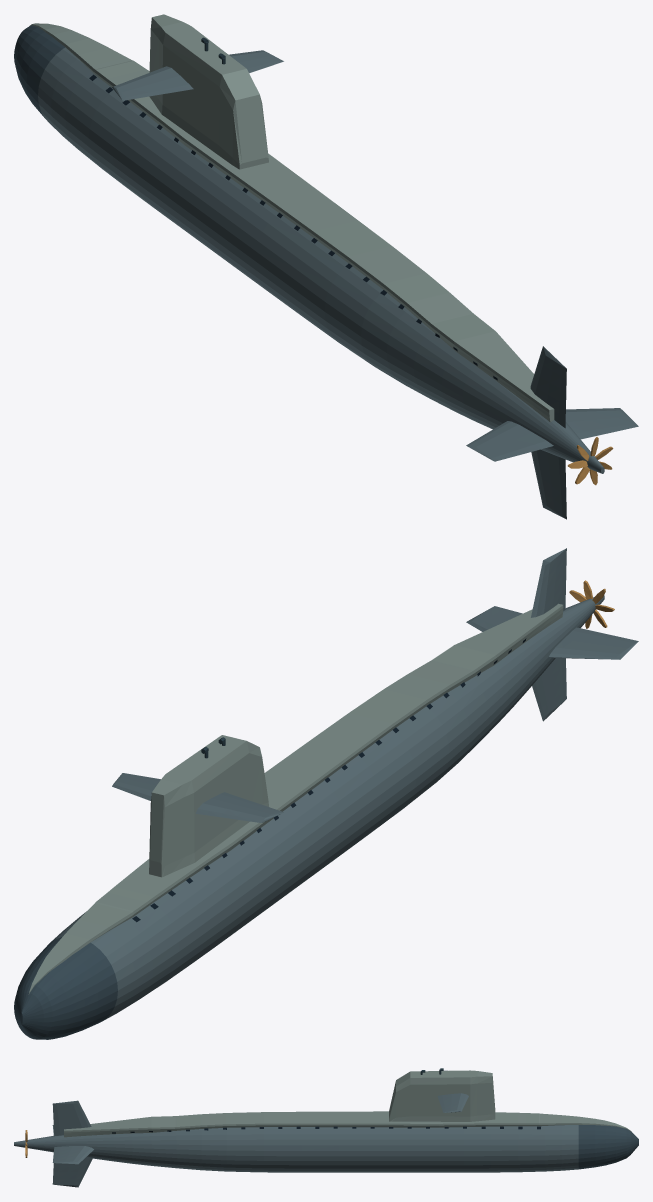
File: archive-type-091-late.glb
3 renders of one model, top to bottom at view 1: azimuth 30°, elevation 25°; view 2: azimuth 150°, elevation 25°; view 3: azimuth 270°, elevation 25°, orthographic. The views are drawn at different scales.
Parts seen in each view (by area): view 1: archive-type-091-late-pressure_hull.002-geometry, archive-type-091-late-cruise_deck.002-geometry, archive-type-091-late-submarine_sail.002-geometry, archive-type-091-late-stern_rudder_2.002-geometry, archive-type-091-late-stern_rudder_3.002-geometry, archive-type-091-late-stern_rudder_1.002-geometry, archive-type-091-late-stern_rudder_0.002-geometry, archive-type-091-late-diving_plane_-1.002-geometry, archive-type-091-late-screw_0.002-geometry, archive-type-091-late-diving_plane_1.002-geometry; view 2: archive-type-091-late-pressure_hull.002-geometry, archive-type-091-late-cruise_deck.002-geometry, archive-type-091-late-submarine_sail.002-geometry, archive-type-091-late-stern_rudder_2.002-geometry, archive-type-091-late-stern_rudder_3.002-geometry, archive-type-091-late-diving_plane_-1.002-geometry, archive-type-091-late-stern_rudder_1.002-geometry, archive-type-091-late-diving_plane_1.002-geometry, archive-type-091-late-stern_rudder_0.002-geometry; view 3: archive-type-091-late-pressure_hull.002-geometry, archive-type-091-late-cruise_deck.002-geometry, archive-type-091-late-submarine_sail.002-geometry, archive-type-091-late-stern_rudder_3.002-geometry, archive-type-091-late-stern_rudder_1.002-geometry, archive-type-091-late-stern_rudder_0.002-geometry, archive-type-091-late-diving_plane_1.002-geometry, archive-type-091-late-flood_openings.002-geometry.
Boxes of the visible parts, x1=… form: archive-type-091-late-pressure_hull.002-geometry: x1=14, y1=25, x2=604, y2=473; archive-type-091-late-cruise_deck.002-geometry: x1=30, y1=23, x2=554, y2=422; archive-type-091-late-submarine_sail.002-geometry: x1=149, y1=14, x2=268, y2=169; archive-type-091-late-stern_rudder_2.002-geometry: x1=466, y1=421, x2=553, y2=461; archive-type-091-late-stern_rudder_3.002-geometry: x1=530, y1=346, x2=566, y2=428; archive-type-091-late-stern_rudder_1.002-geometry: x1=531, y1=449, x2=566, y2=519; archive-type-091-late-stern_rudder_0.002-geometry: x1=565, y1=408, x2=638, y2=439; archive-type-091-late-diving_plane_-1.002-geometry: x1=112, y1=66, x2=193, y2=100; archive-type-091-late-screw_0.002-geometry: x1=567, y1=437, x2=613, y2=485; archive-type-091-late-diving_plane_1.002-geometry: x1=229, y1=50, x2=283, y2=73; archive-type-091-late-pressure_hull.002-geometry: x1=14, y1=595, x2=604, y2=1039; archive-type-091-late-cruise_deck.002-geometry: x1=28, y1=603, x2=563, y2=994; archive-type-091-late-submarine_sail.002-geometry: x1=149, y1=735, x2=268, y2=877; archive-type-091-late-stern_rudder_2.002-geometry: x1=549, y1=627, x2=638, y2=659; archive-type-091-late-stern_rudder_3.002-geometry: x1=531, y1=548, x2=566, y2=617; archive-type-091-late-diving_plane_-1.002-geometry: x1=195, y1=792, x2=283, y2=822; archive-type-091-late-stern_rudder_1.002-geometry: x1=532, y1=658, x2=566, y2=721; archive-type-091-late-diving_plane_1.002-geometry: x1=112, y1=773, x2=160, y2=800; archive-type-091-late-stern_rudder_0.002-geometry: x1=466, y1=606, x2=522, y2=631; archive-type-091-late-pressure_hull.002-geometry: x1=14, y1=1125, x2=638, y2=1172; archive-type-091-late-cruise_deck.002-geometry: x1=64, y1=1111, x2=631, y2=1137; archive-type-091-late-submarine_sail.002-geometry: x1=389, y1=1068, x2=495, y2=1121; archive-type-091-late-stern_rudder_3.002-geometry: x1=52, y1=1100, x2=91, y2=1136; archive-type-091-late-stern_rudder_1.002-geometry: x1=52, y1=1157, x2=92, y2=1187; archive-type-091-late-stern_rudder_0.002-geometry: x1=52, y1=1146, x2=93, y2=1164; archive-type-091-late-diving_plane_1.002-geometry: x1=437, y1=1093, x2=468, y2=1112; archive-type-091-late-flood_openings.002-geometry: x1=112, y1=1126, x2=540, y2=1133.
Size of the model in its own units: 1.61 by 2.1 by 10.
